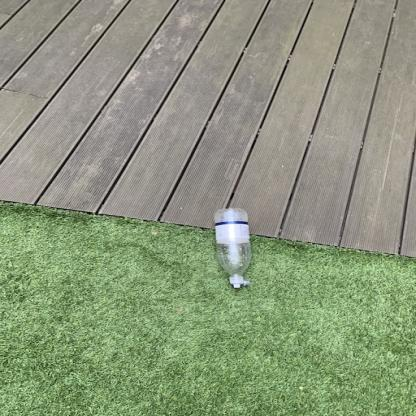trash: (210, 207, 254, 290)
